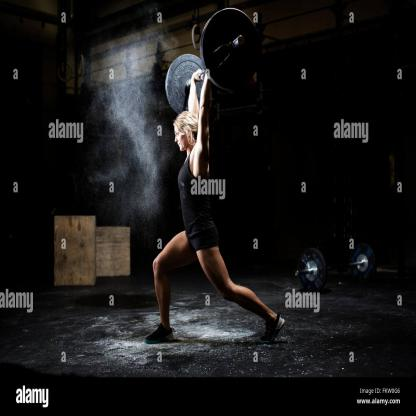Barbell: (198, 1, 268, 101)
